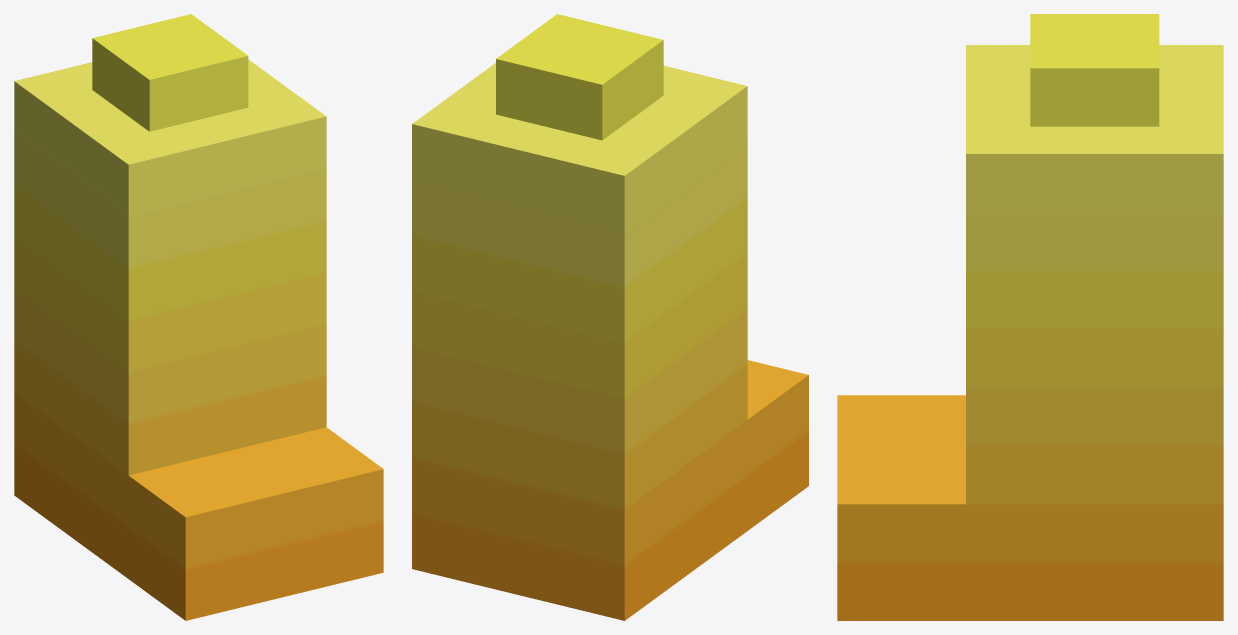
Rendered from Knee028.fbx.
3 views of the same model, side by side, from view 1: azimuth 30°, elevation 25°; view 2: azimuth 150°, elevation 25°; view 3: azimuth 270°, elevation 25° (orthographic). The views are drawn at different scales.
Parts seen in each view (by area): view 1: Knee028; view 2: Knee028; view 3: Knee028.
Boxes of the visible parts, x1,y1,x2,y2 form: Knee028: (14,14,383,620); Knee028: (412,14,808,620); Knee028: (837,14,1223,620).
Bounding box in the file's own units: 4 × 9 × 6.
